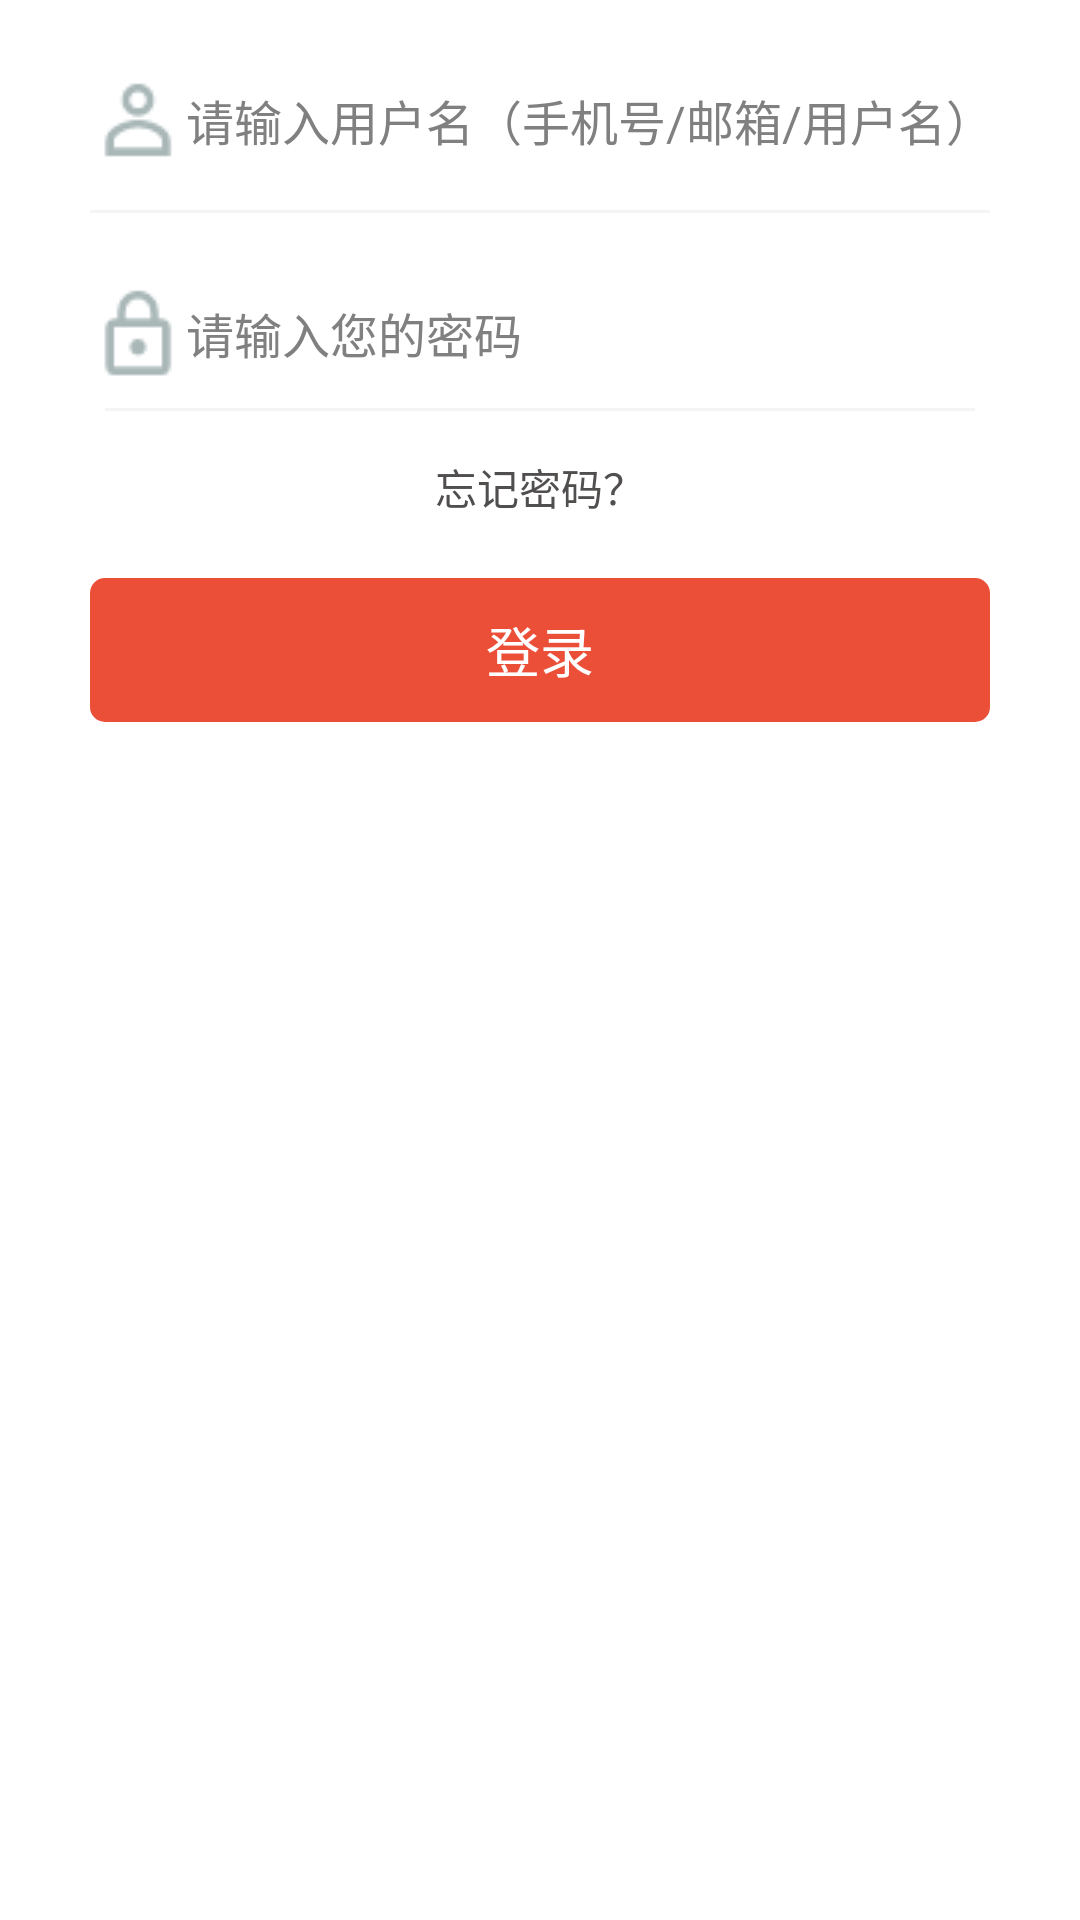

Icon click points for this 1080 x 1920 phone screenshot, format point (x, y):
password: point (138, 333)
